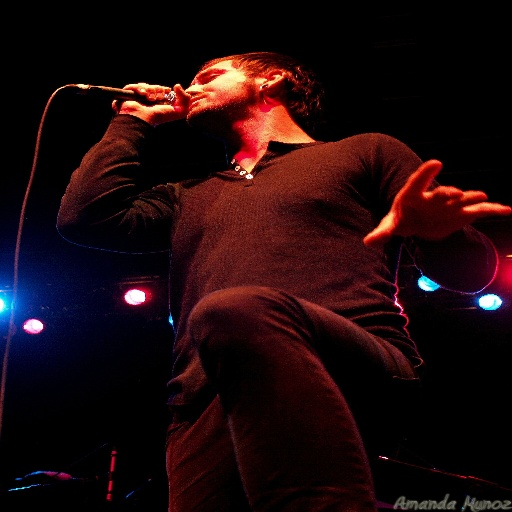hand: (364, 159, 511, 247), (112, 82, 192, 124)
